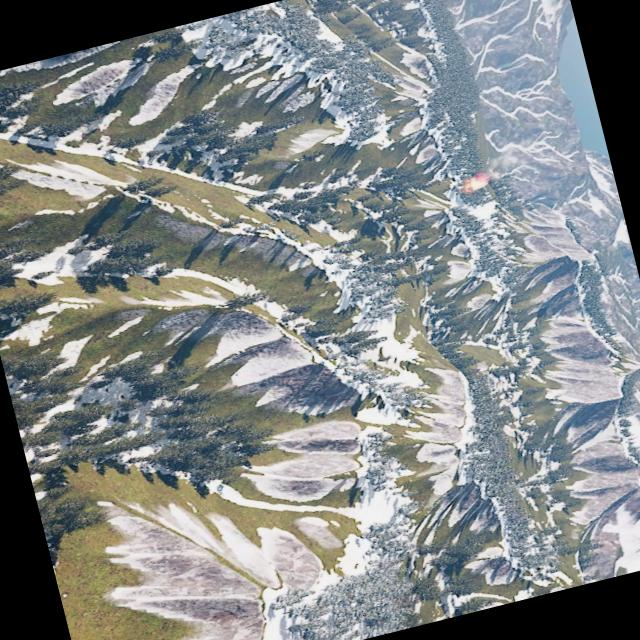fire: (463, 174, 488, 192)
smoke: (478, 148, 526, 180)
